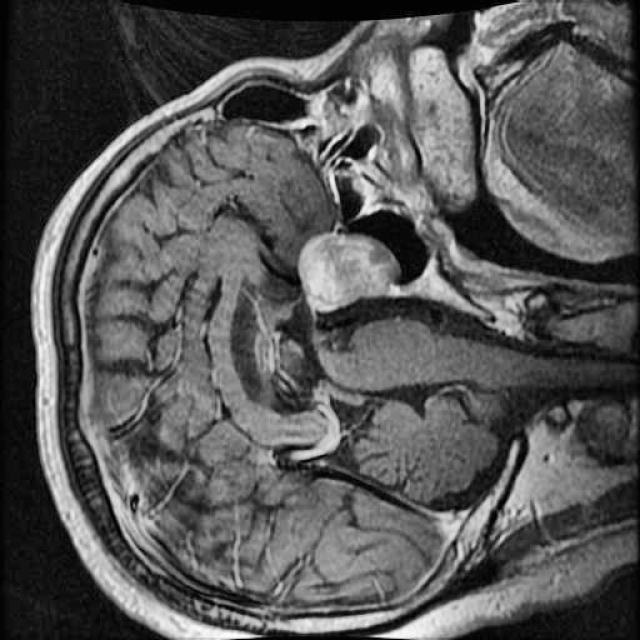Tumor: (291, 223, 402, 324)
